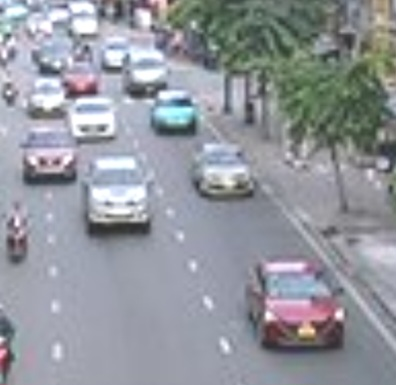car: (247, 253, 347, 350), (83, 157, 152, 231), (191, 145, 257, 200), (22, 124, 77, 185), (150, 91, 199, 134), (70, 98, 115, 141), (27, 78, 68, 120)
